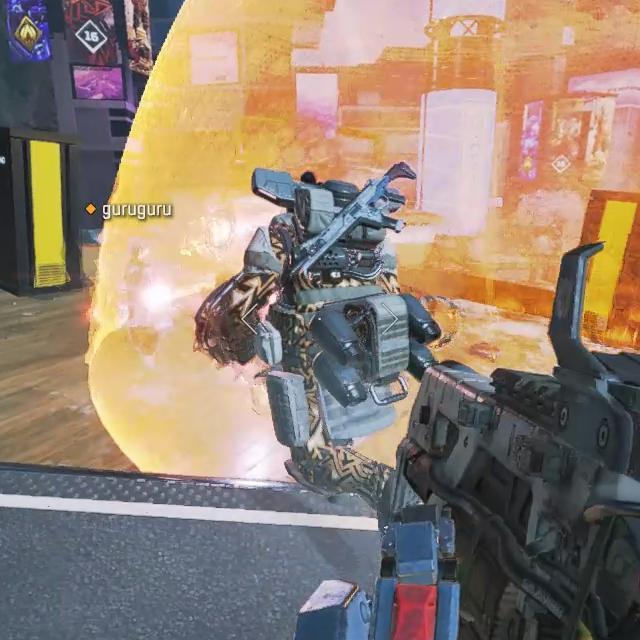avatar: (193, 158, 444, 521)
